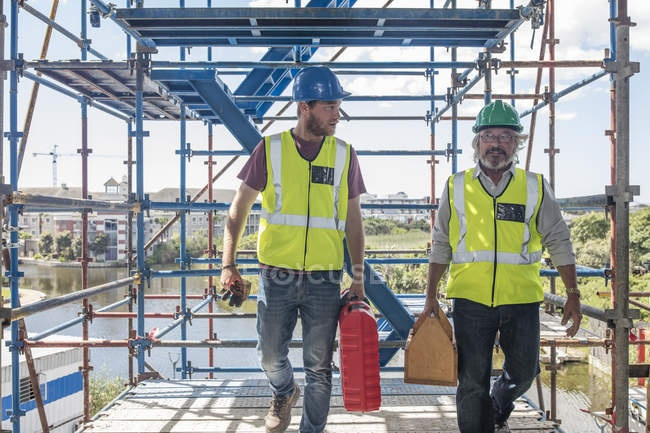blue: (290, 67, 346, 139)
